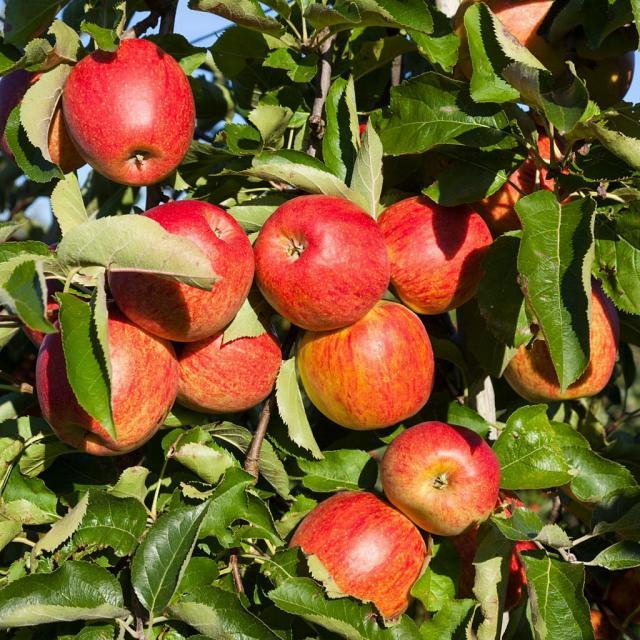Red Apple: (110, 203, 262, 336), (69, 41, 199, 183), (35, 320, 177, 443), (297, 301, 444, 419), (259, 201, 389, 324), (292, 495, 431, 610), (379, 418, 509, 531), (522, 293, 632, 399), (382, 195, 490, 301), (172, 319, 277, 418), (489, 137, 574, 233), (472, 492, 547, 594), (2, 70, 77, 168), (475, 1, 554, 68), (585, 612, 617, 640)
